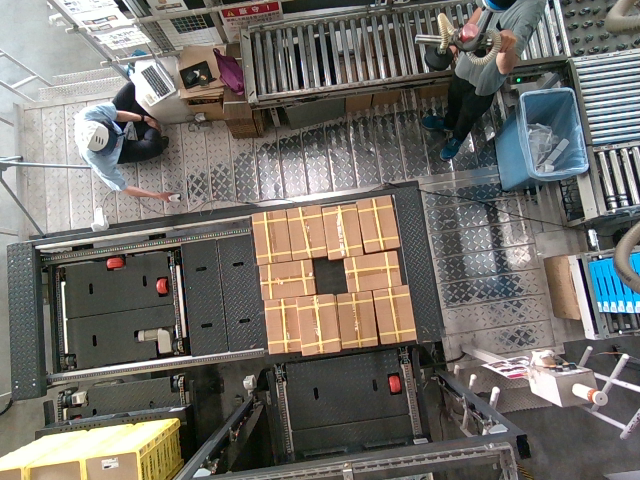box: (251, 210, 290, 263), (285, 206, 324, 259), (324, 202, 363, 255), (358, 197, 397, 250), (374, 288, 413, 341), (337, 294, 376, 347), (296, 296, 335, 349), (264, 298, 303, 351), (259, 261, 315, 295), (345, 255, 401, 289)
